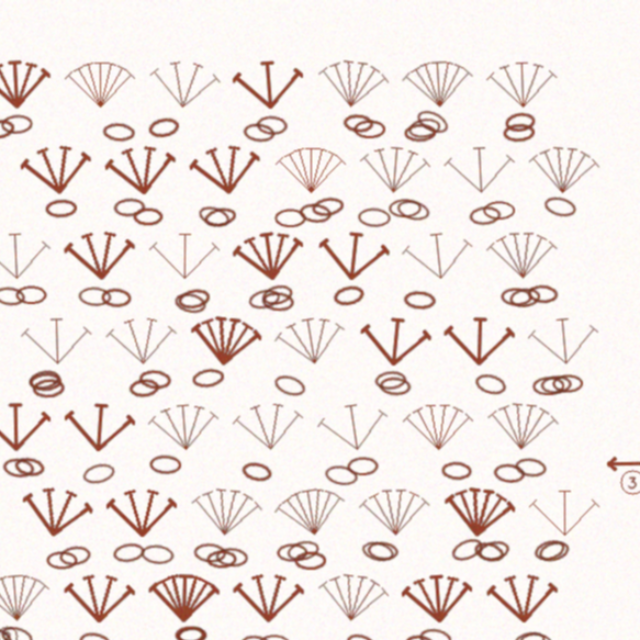chain: (411, 97, 445, 125), (443, 487, 476, 514), (347, 574, 380, 600), (15, 568, 47, 594), (213, 185, 245, 210), (282, 339, 314, 364), (465, 338, 497, 362), (33, 568, 65, 592), (394, 180, 427, 203), (464, 491, 495, 515), (523, 490, 554, 514), (519, 489, 550, 513), (528, 177, 560, 200), (259, 261, 291, 284), (108, 420, 140, 443), (294, 490, 326, 513), (362, 491, 394, 514), (468, 490, 500, 513), (500, 573, 532, 596), (271, 257, 302, 280), (329, 422, 361, 444), (219, 187, 250, 209), (195, 261, 226, 283), (192, 265, 223, 287), (336, 258, 367, 280), (59, 335, 90, 357), (105, 574, 136, 596), (168, 105, 198, 127), (253, 419, 283, 441), (405, 106, 436, 127), (317, 178, 348, 199), (208, 334, 239, 355), (136, 493, 167, 514), (252, 577, 283, 598), (415, 571, 446, 592), (18, 107, 48, 128), (46, 415, 76, 436), (502, 416, 533, 436), (87, 496, 118, 516), (162, 495, 193, 515), (255, 111, 285, 131), (493, 101, 523, 121), (306, 184, 336, 204), (497, 261, 527, 281), (36, 416, 66, 436), (483, 421, 513, 441), (28, 260, 57, 280), (368, 492, 397, 512), (402, 577, 431, 597), (127, 111, 157, 130), (461, 187, 491, 206), (272, 265, 302, 284), (401, 264, 431, 283), (63, 344, 93, 363), (160, 336, 190, 355), (375, 337, 405, 356), (230, 498, 260, 517), (210, 494, 240, 513), (105, 261, 136, 279), (346, 103, 375, 122), (151, 344, 180, 363), (526, 341, 555, 360), (137, 180, 167, 198), (360, 189, 390, 207), (379, 343, 409, 361), (507, 576, 537, 594), (35, 104, 64, 122), (267, 105, 296, 123), (402, 112, 431, 130), (492, 112, 521, 130), (75, 181, 104, 199), (514, 259, 543, 277), (61, 339, 90, 357), (170, 414, 199, 432), (388, 181, 418, 198), (126, 262, 154, 280), (436, 420, 464, 438), (195, 570, 223, 588), (356, 109, 385, 126), (284, 190, 313, 207), (474, 183, 503, 200), (48, 260, 77, 277), (490, 262, 519, 279), (519, 343, 548, 360), (350, 416, 379, 433), (76, 502, 105, 519), (302, 502, 331, 519), (269, 578, 298, 595), (155, 189, 183, 206), (537, 341, 565, 358), (222, 501, 250, 518), (286, 495, 314, 512), (193, 570, 221, 587)
fan: (50, 438, 121, 495), (282, 282, 352, 339), (282, 438, 352, 495), (244, 205, 314, 261), (321, 361, 391, 417), (321, 49, 390, 104), (51, 127, 120, 182), (205, 127, 274, 182), (205, 283, 274, 338), (436, 439, 505, 494), (321, 517, 390, 572), (128, 128, 197, 182), (168, 50, 236, 104), (322, 206, 390, 260), (399, 206, 467, 260), (360, 284, 428, 338), (476, 362, 544, 415), (206, 440, 274, 493), (360, 128, 427, 181), (514, 284, 581, 337), (245, 362, 312, 415), (14, 518, 81, 571), (245, 51, 312, 103), (514, 129, 581, 181), (91, 363, 158, 415), (168, 363, 235, 415), (399, 519, 466, 571), (15, 51, 81, 102), (400, 51, 466, 102), (438, 129, 504, 180), (92, 207, 158, 258), (130, 285, 196, 336), (15, 208, 81, 258), (477, 520, 543, 570), (477, 52, 542, 102), (92, 520, 157, 570), (477, 208, 542, 257), (53, 286, 118, 335), (438, 286, 503, 335), (361, 442, 426, 491), (169, 520, 234, 569), (246, 520, 311, 569), (16, 364, 80, 413), (93, 53, 157, 101), (285, 131, 349, 179), (170, 209, 234, 257), (401, 365, 465, 413), (131, 443, 195, 491), (516, 443, 580, 491)
noise: (597, 426, 623, 452), (584, 415, 623, 430), (29, 568, 52, 591), (0, 83, 17, 108)
